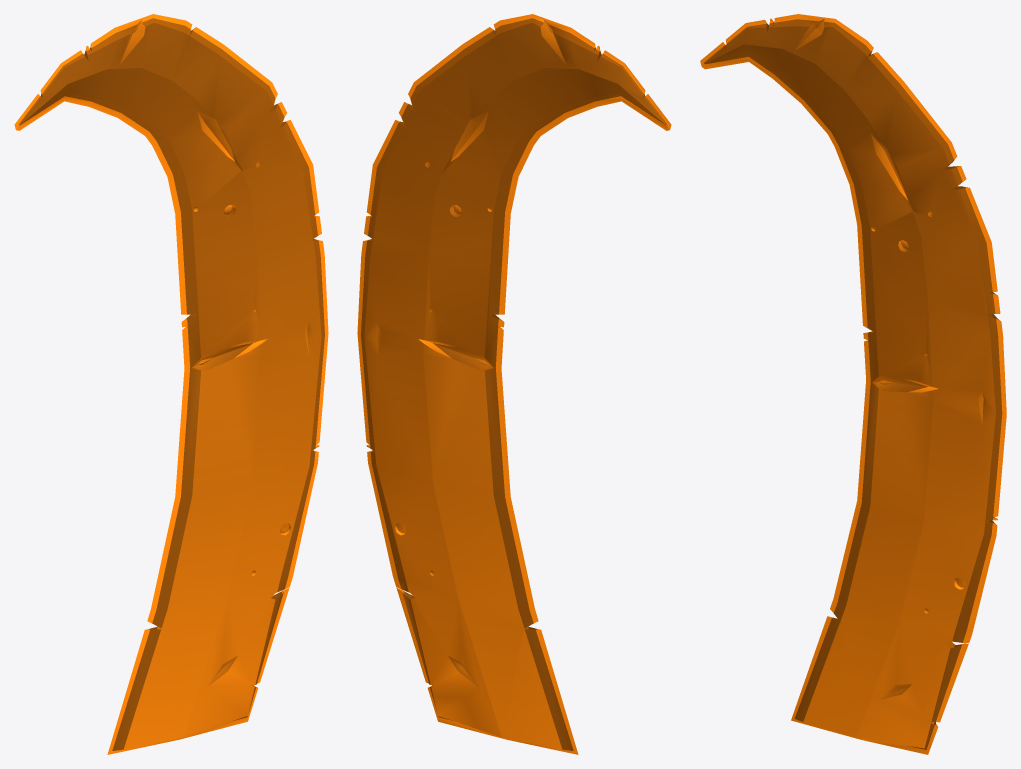
Rendered from bronze_blade_bubbles_024.glb.
3 renders of one model, left to right at view 1: azimuth 30°, elevation 25°; view 2: azimuth 150°, elevation 25°; view 3: azimuth 330°, elevation 25°, orthographic. The views are drawn at different scales.
Parts seen in each view (by area): view 1: bronze_blade_bubbles.024; view 2: bronze_blade_bubbles.024; view 3: bronze_blade_bubbles.024.
Boxes of the visible parts, x1,y1,x2,y2 form: bronze_blade_bubbles.024: (14,14,328,754); bronze_blade_bubbles.024: (357,14,671,754); bronze_blade_bubbles.024: (700,14,1006,754).
Bounding box in the file's own units: 4.65 × 10.35 × 0.241.
Materials: 1 (1 with a texture image).
